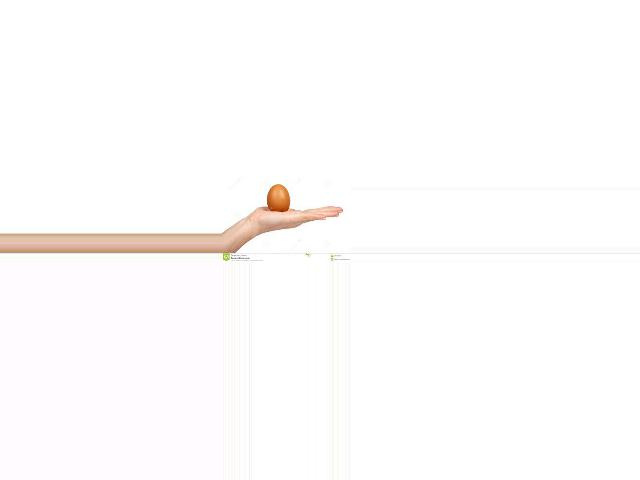egg: (267, 184, 290, 212)
